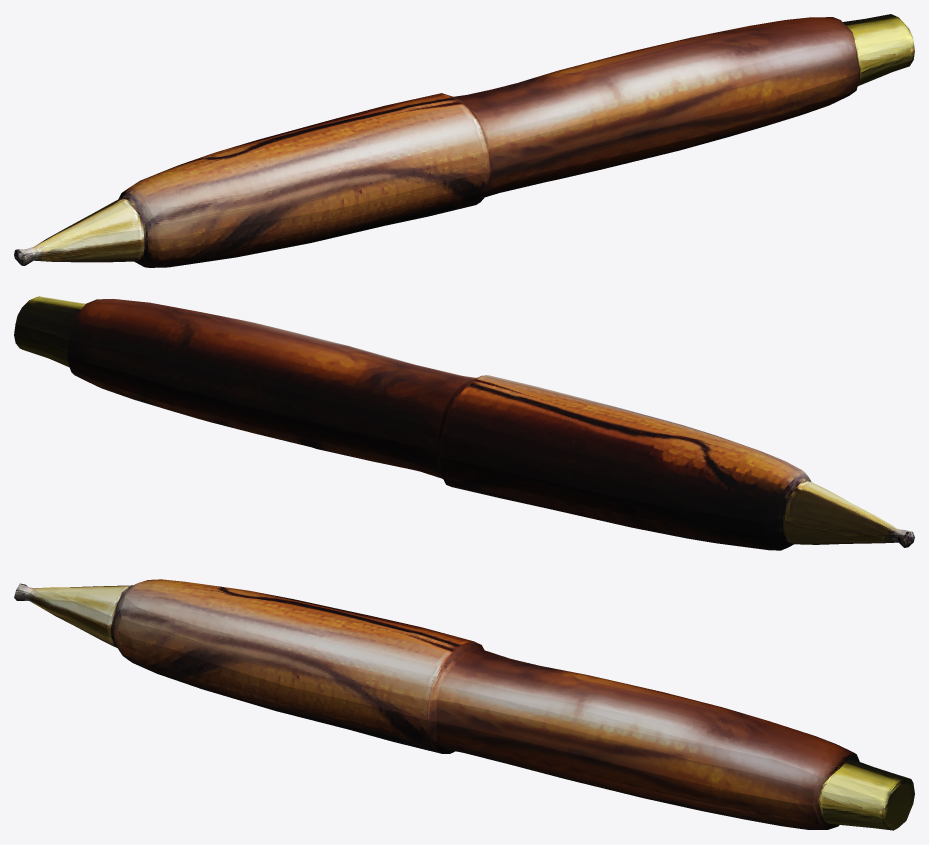
The model's file is wooden-pen-rustic.jpeg.glb.
3 views of the same model, one above another, from view 1: azimuth 30°, elevation 25°; view 2: azimuth 150°, elevation 25°; view 3: azimuth 330°, elevation 25° (orthographic).
Parts seen in each view (by area): view 1: world; view 2: world; view 3: world.
Part boxes in pixels (<box>): world: <box>14,14,914,267</box>; world: <box>14,296,914,550</box>; world: <box>14,579,914,830</box>.
Bounding box in the file's own units: 1 × 0.1108 × 0.1274.
Materials: 1 (1 with a texture image).
